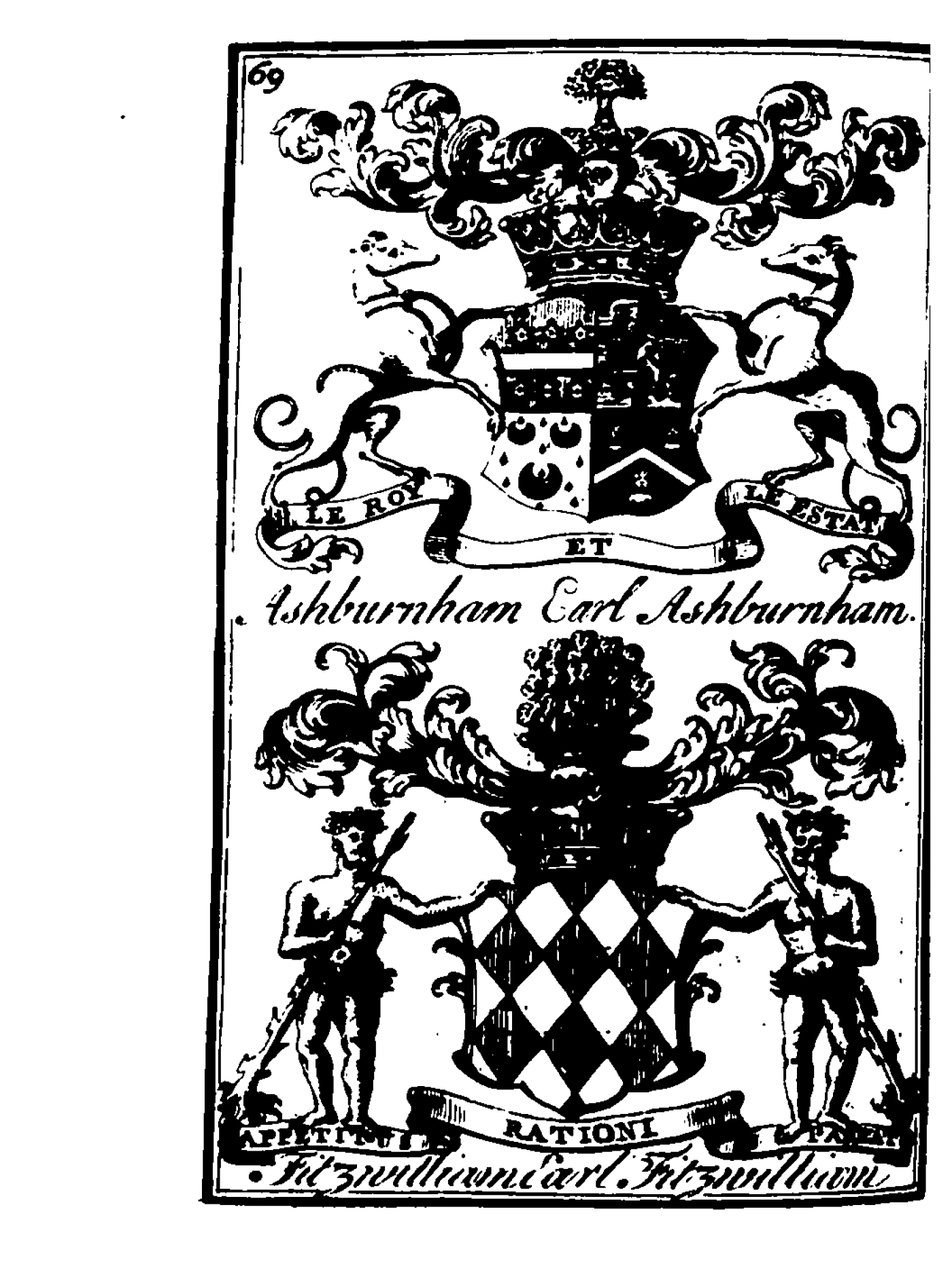coat_of_arms: (242, 626, 913, 1186), (260, 82, 909, 628)
